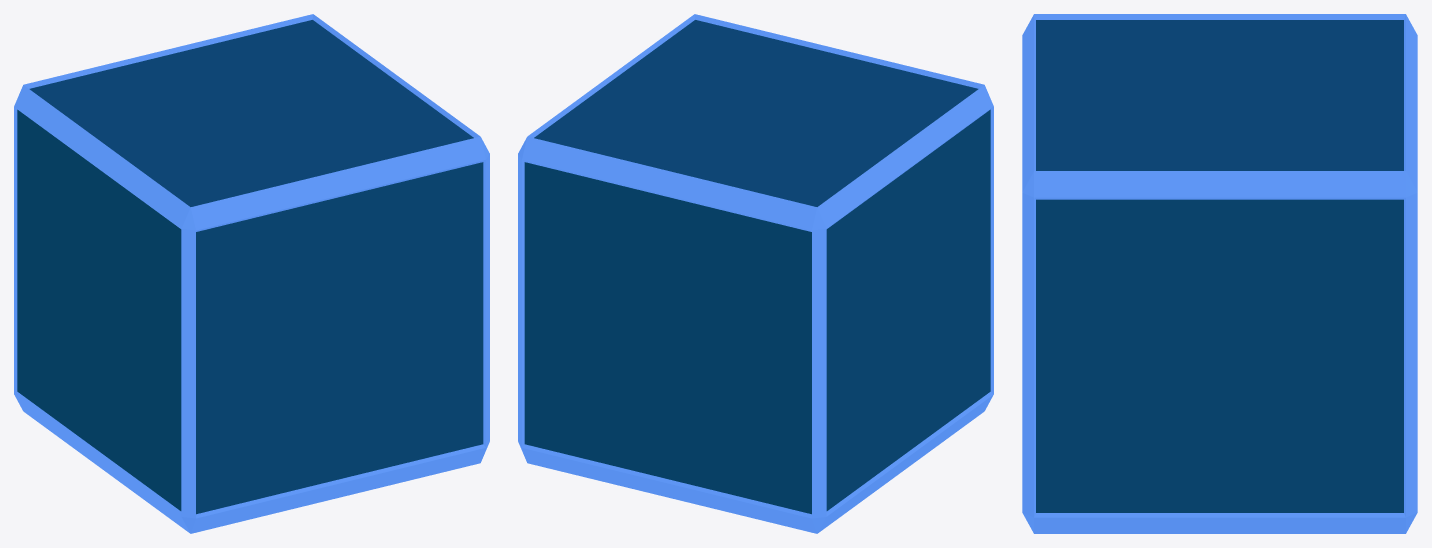
File: cube-neon-large.glb
3 renders of one model, left to right at view 1: azimuth 30°, elevation 25°; view 2: azimuth 150°, elevation 25°; view 3: azimuth 270°, elevation 25°, orthographic. The views are drawn at different scales.
Visible parts, largest first — view 1: block-neon-large; view 2: block-neon-large; view 3: block-neon-large.
Part boxes in pixels (x1,y1,x2,y2): block-neon-large: (14, 14, 489, 533); block-neon-large: (518, 14, 993, 533); block-neon-large: (1022, 14, 1417, 533).
Size of the model in its own units: 2.03 by 2.06 by 2.03.
